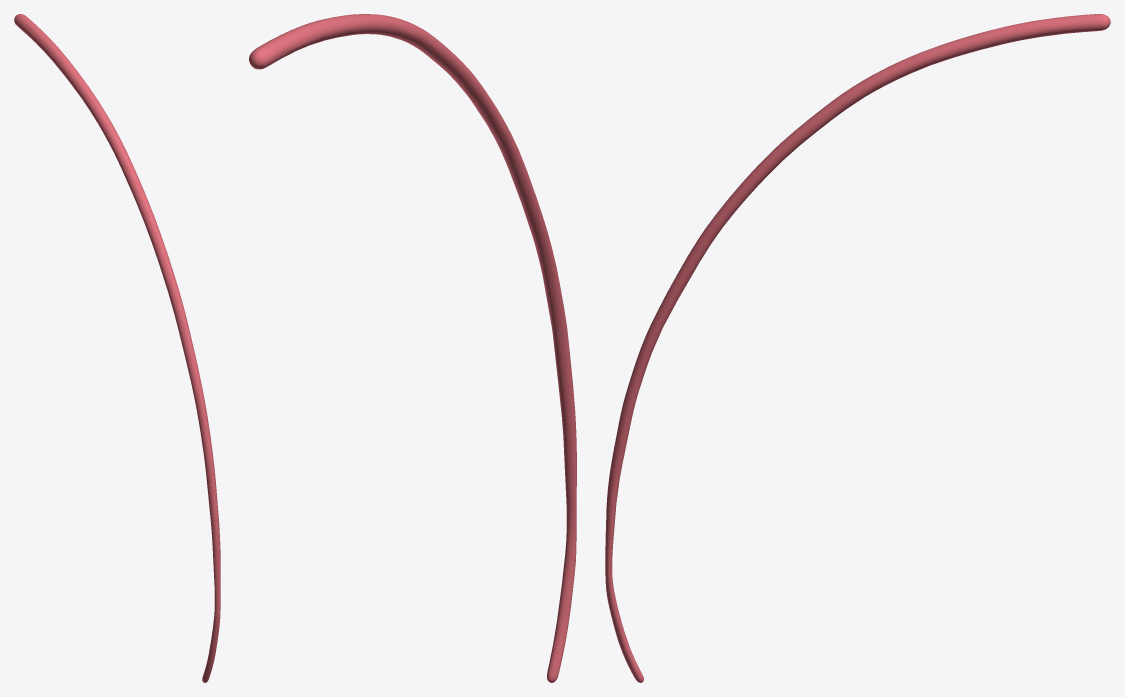
File: fma21385_fj3637.glb
The picture shows the model from 3 angles, left to right: view 1: azimuth 30°, elevation 25°; view 2: azimuth 150°, elevation 25°; view 3: azimuth 270°, elevation 25°; orthographic projection. The views are drawn at different scales.
Visible parts, largest first — view 1: FMA21385_FJ3637; view 2: FMA21385_FJ3637; view 3: FMA21385_FJ3637.
Part boxes in pixels (bbox=[...]): FMA21385_FJ3637: bbox=[14, 14, 220, 682]; FMA21385_FJ3637: bbox=[249, 14, 576, 682]; FMA21385_FJ3637: bbox=[605, 14, 1110, 682].
Bounding box in the file's own units: 0.00181 × 0.0771 × 0.0529.
